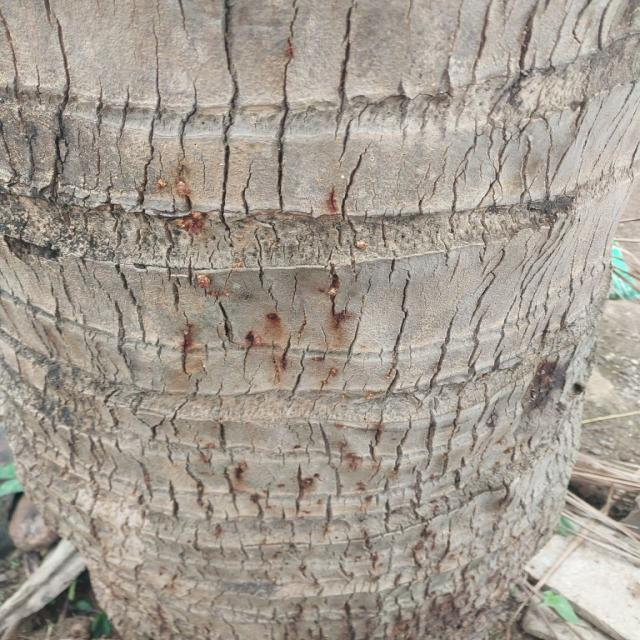stembleeding: (127, 147, 444, 568)
